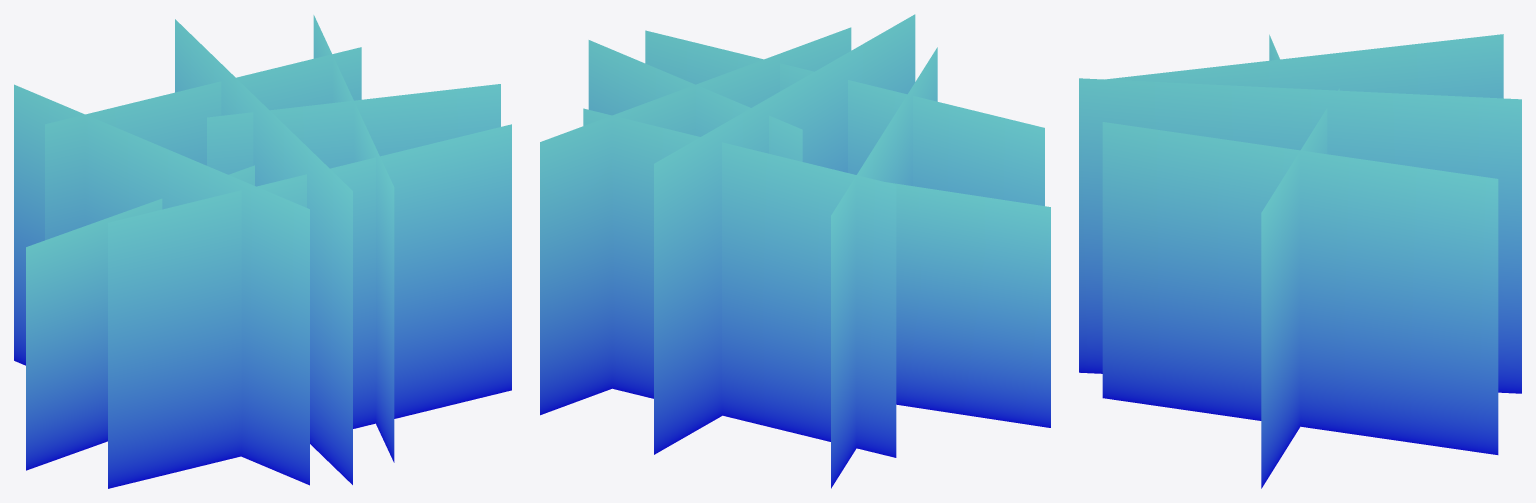
Rendered from SM_Env_Grass_Tall_Clump_02.FBX.
3 renders of one model, left to right at view 1: azimuth 30°, elevation 25°; view 2: azimuth 150°, elevation 25°; view 3: azimuth 270°, elevation 25°, orthographic.
Visible parts, largest first — view 1: SM_Env_Grass_Tall_Clump_02; view 2: SM_Env_Grass_Tall_Clump_02; view 3: SM_Env_Grass_Tall_Clump_02.
Boxes of the visible parts, x1,y1,x2,y2 form: SM_Env_Grass_Tall_Clump_02: (14, 15, 511, 488); SM_Env_Grass_Tall_Clump_02: (540, 14, 1050, 488); SM_Env_Grass_Tall_Clump_02: (1079, 34, 1521, 488).
Bounding box in the file's own units: 179 × 145 × 107.
